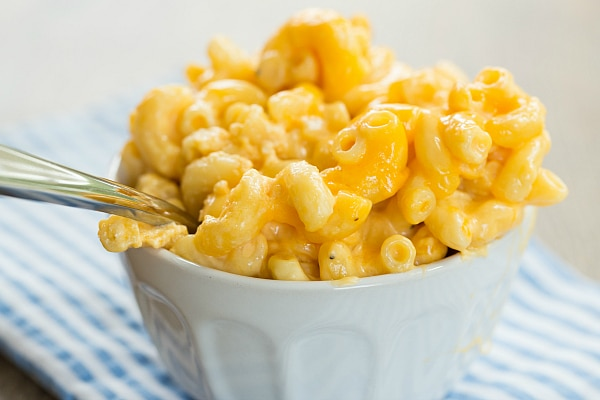macncheese: (87, 8, 567, 282)
